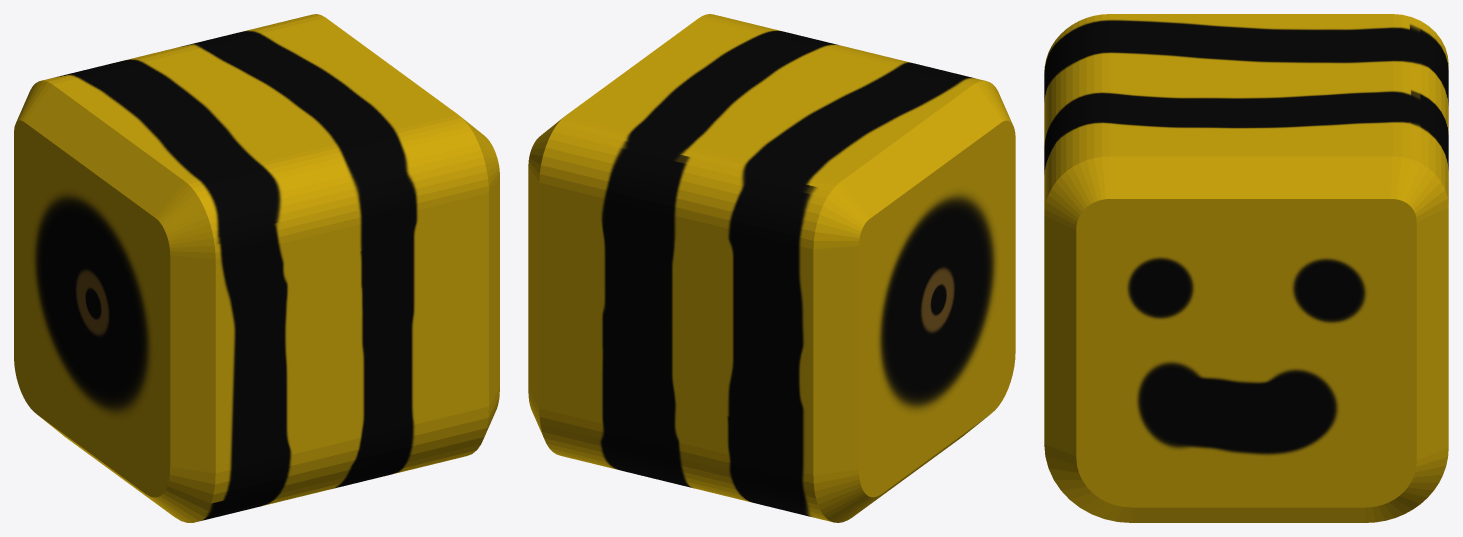
The model's file is BeePets.fbx.
3 views of the same model, side by side, from view 1: azimuth 30°, elevation 25°; view 2: azimuth 150°, elevation 25°; view 3: azimuth 270°, elevation 25° (orthographic). The views are drawn at different scales.
Visible parts, largest first — view 1: Cube; view 2: Cube; view 3: Cube.
Boxes of the visible parts, x1,y1,x2,y2 form: Cube: [14, 14, 499, 522]; Cube: [528, 14, 1015, 522]; Cube: [1044, 14, 1448, 522].
Bounding box in the file's own units: 200 × 200 × 200.
1 material, 1 textured.
